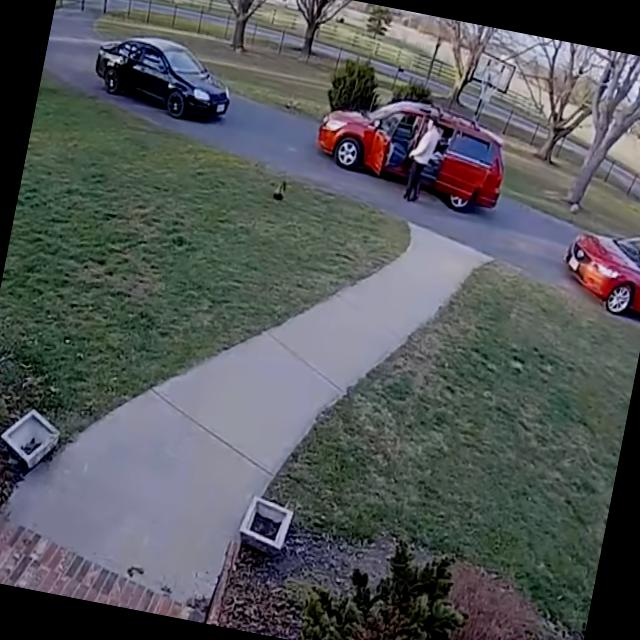person: (401, 112, 445, 204)
